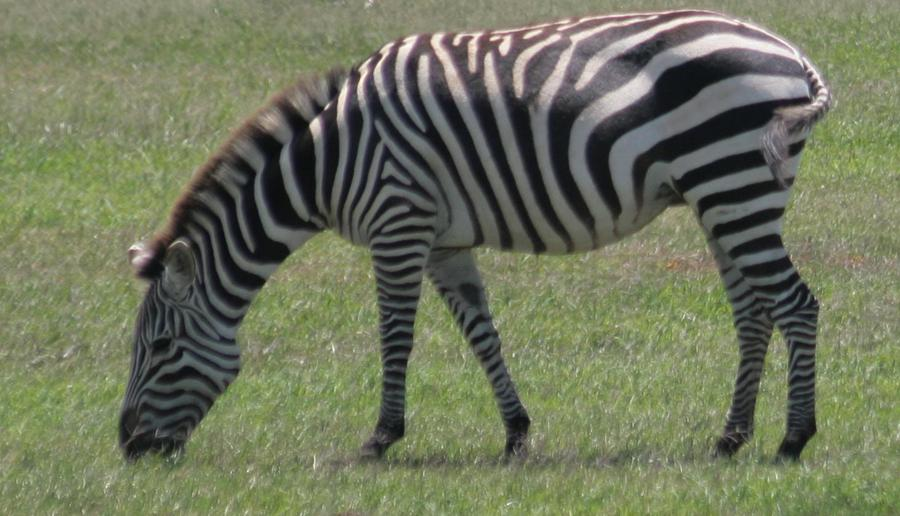zebra_plains: (298, 8, 839, 290)
